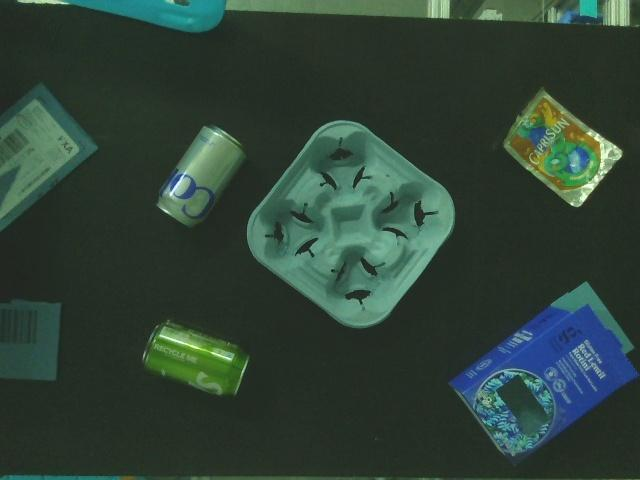cardboard: (241, 116, 468, 334), (444, 278, 640, 470), (0, 78, 106, 242), (0, 295, 63, 384)
metal: (152, 120, 252, 235), (138, 314, 258, 402)
plastic: (498, 84, 626, 210)
